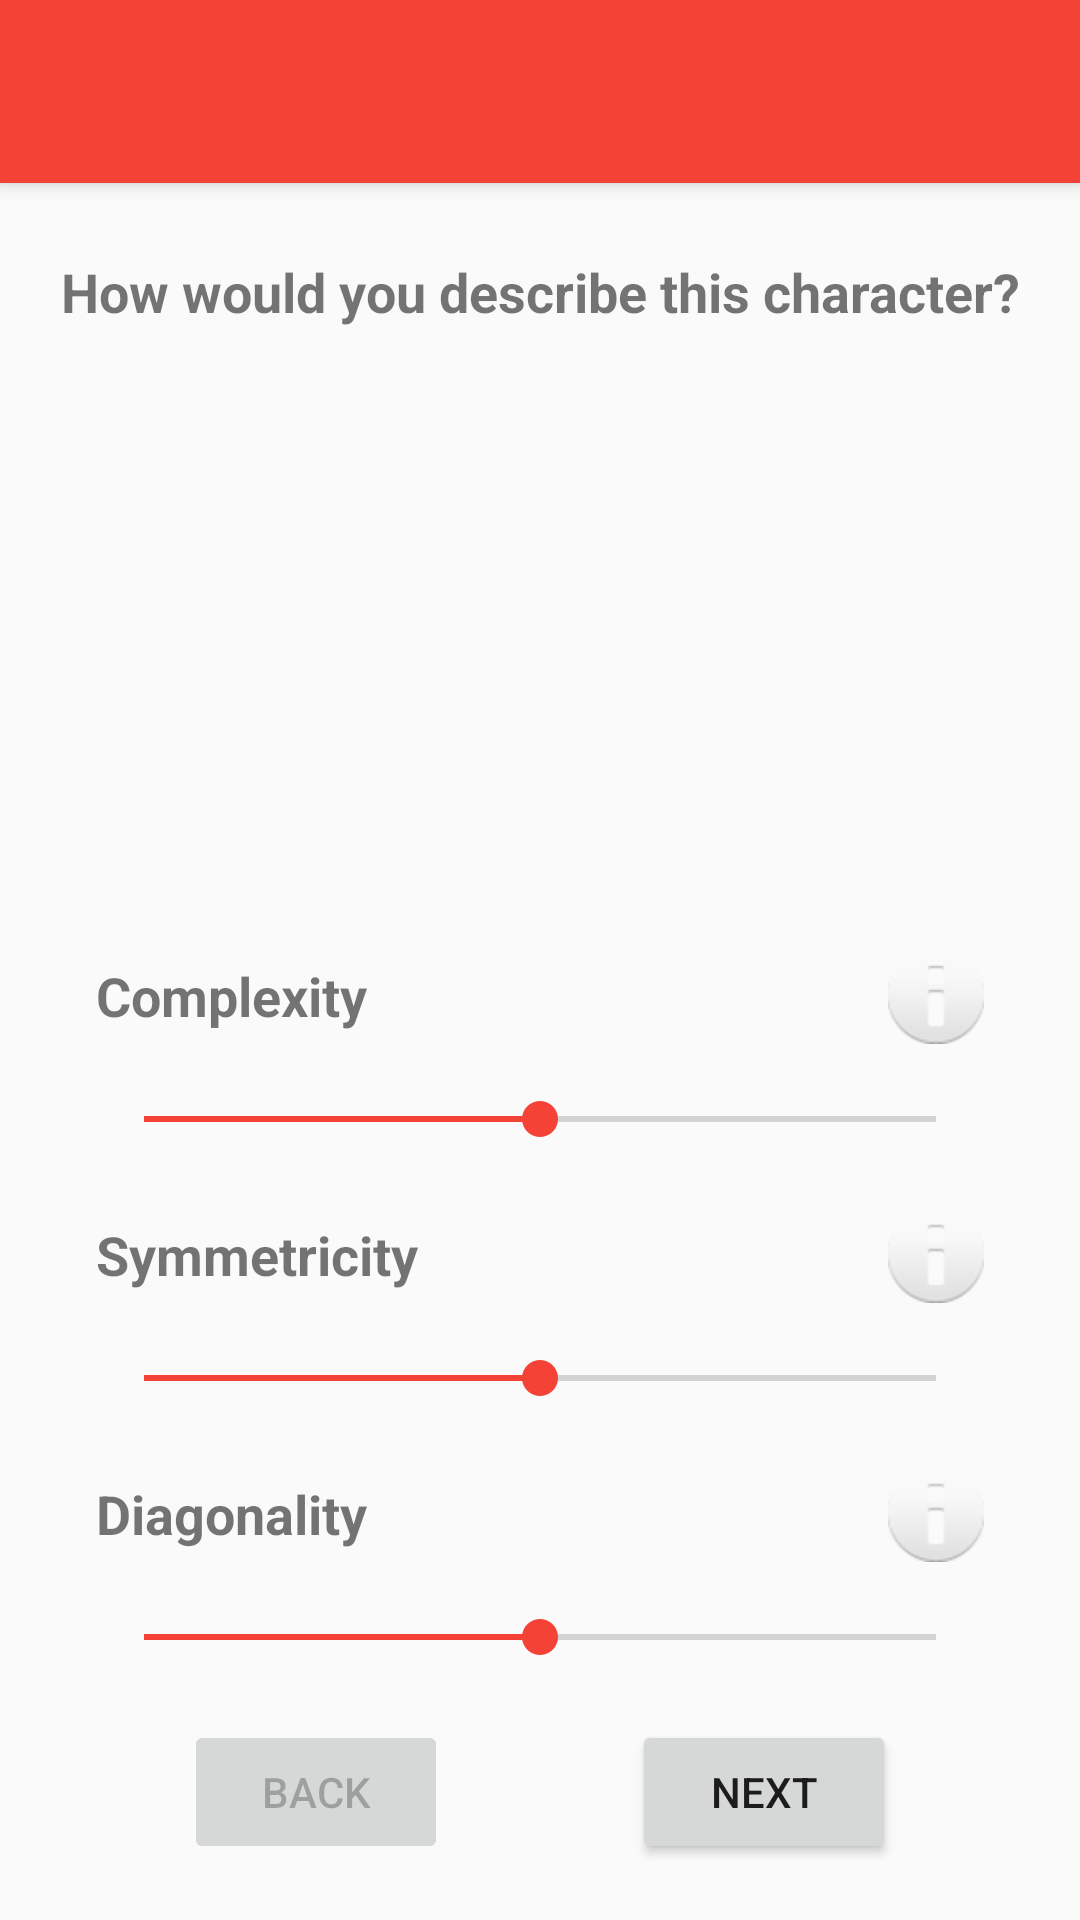

Icons on this 1080x1920 Android screen, each with its box as (x1, y1, x2, y2):
info: (888, 966, 984, 1044), (888, 1225, 984, 1303), (888, 1484, 984, 1562)
